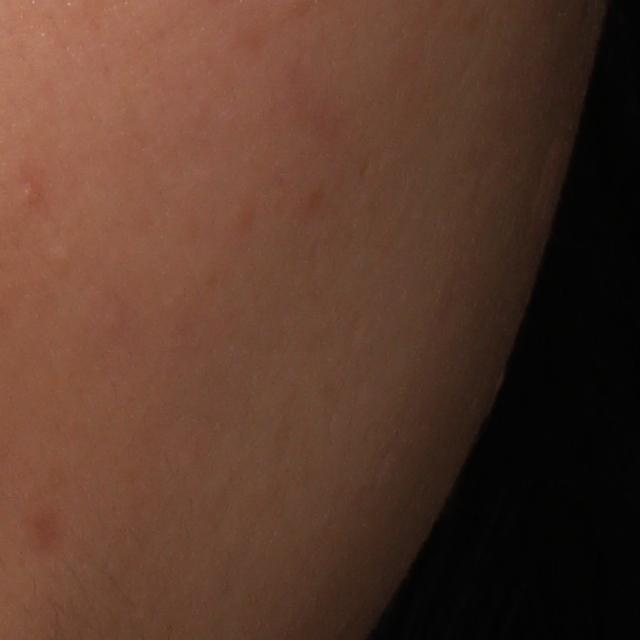comedo: (54, 244, 77, 267)
